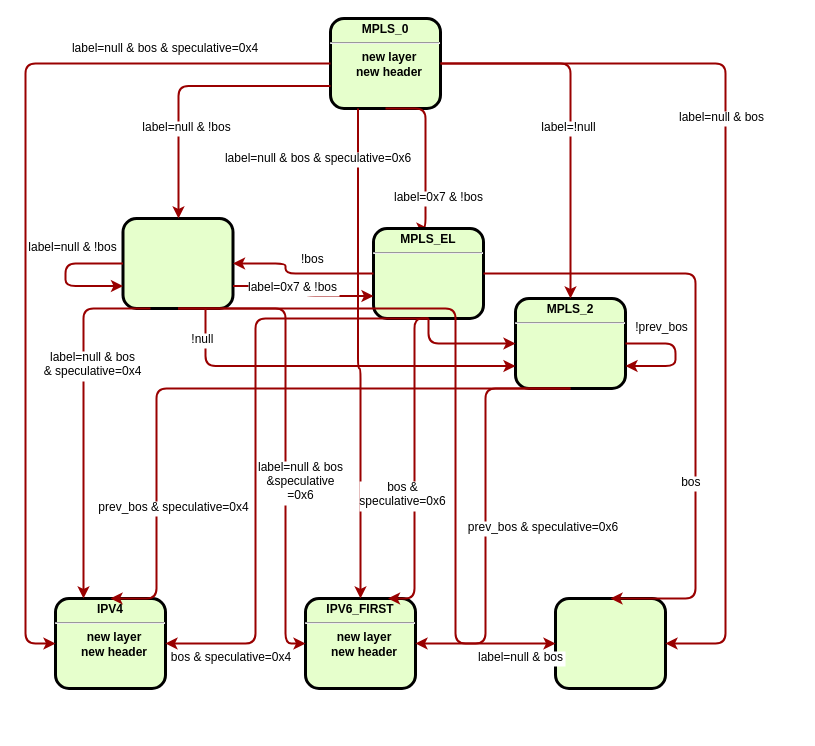
This 815x746 diagram has some shape labels left out. The centre of each missing label's shape, as x and y in pixels:
ETH new layer new header: point (610, 643)
MPLS_1: point (177, 263)
